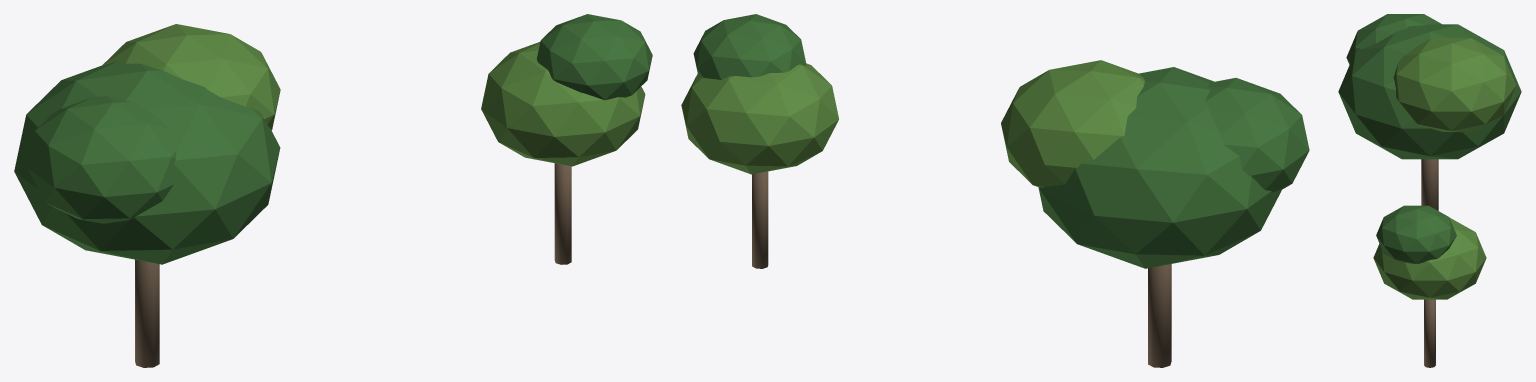
Rendered from trees.glb.
The picture shows the model from 3 angles, left to right: view 1: azimuth 30°, elevation 25°; view 2: azimuth 150°, elevation 25°; view 3: azimuth 270°, elevation 25°; orthographic projection. The views are drawn at different scales.
Parts seen in each view (by area): view 1: Tree A, Tree B; view 2: Tree A, Tree B; view 3: Tree A, Tree B.
Part boxes in pixels (x1,y1,x2,y2): Tree A: (14, 24, 280, 367); Tree B: (481, 14, 652, 264); Tree A: (1001, 60, 1309, 367); Tree B: (681, 14, 838, 268); Tree A: (1338, 14, 1521, 210); Tree B: (1373, 205, 1486, 367).
Size of the model in its own units: 17.62 by 8.33 by 6.8.
